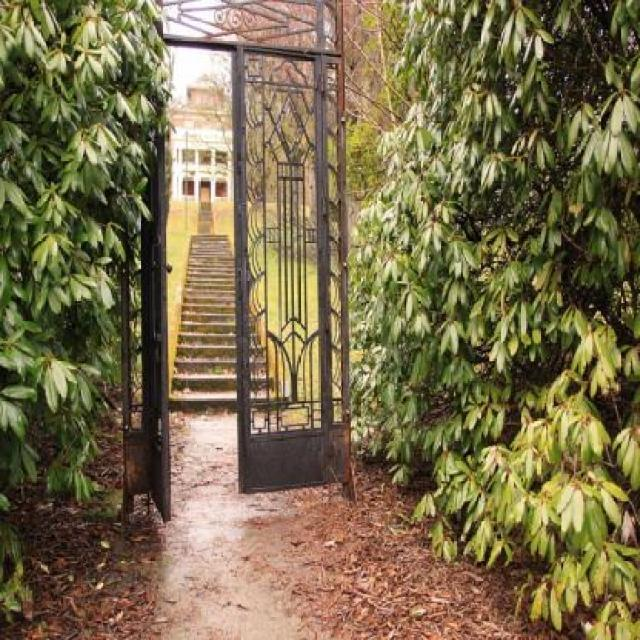stair: (166, 237, 282, 411), (197, 198, 216, 236)
